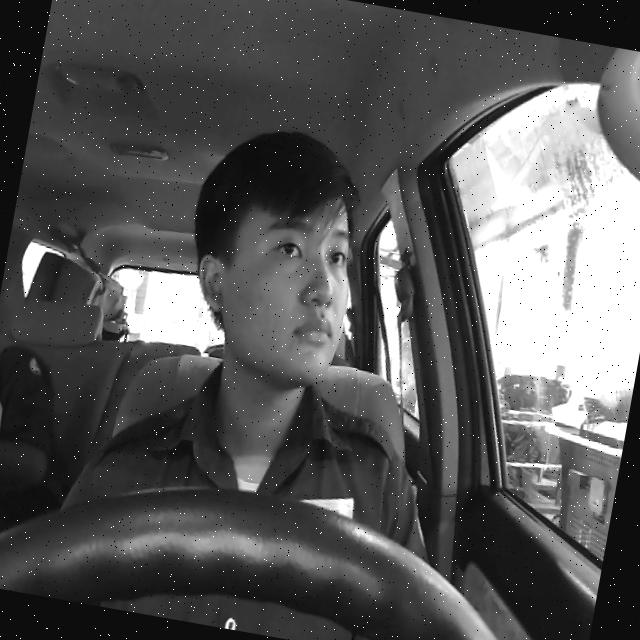seeing_right: (180, 170, 366, 391)
